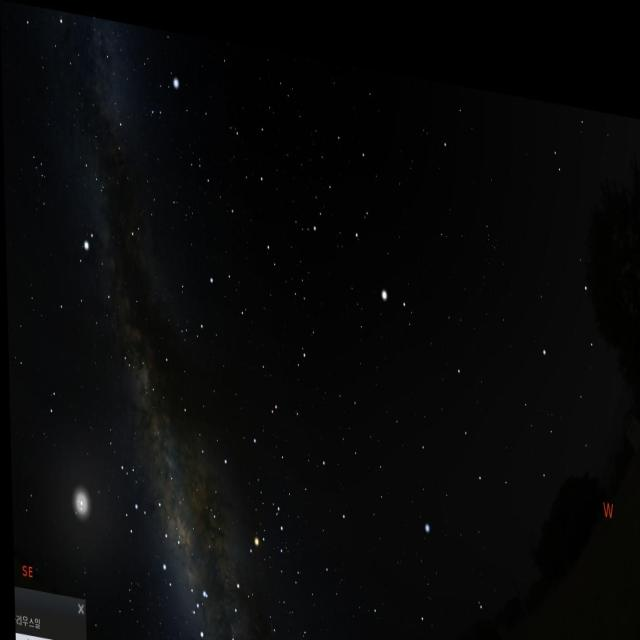aquila: (52, 173, 149, 376)
bootes: (309, 97, 425, 334)
lyra: (140, 58, 184, 124)
moon: (56, 466, 102, 548)
sagittarius: (111, 444, 187, 581)
scorpius: (188, 467, 287, 640)
